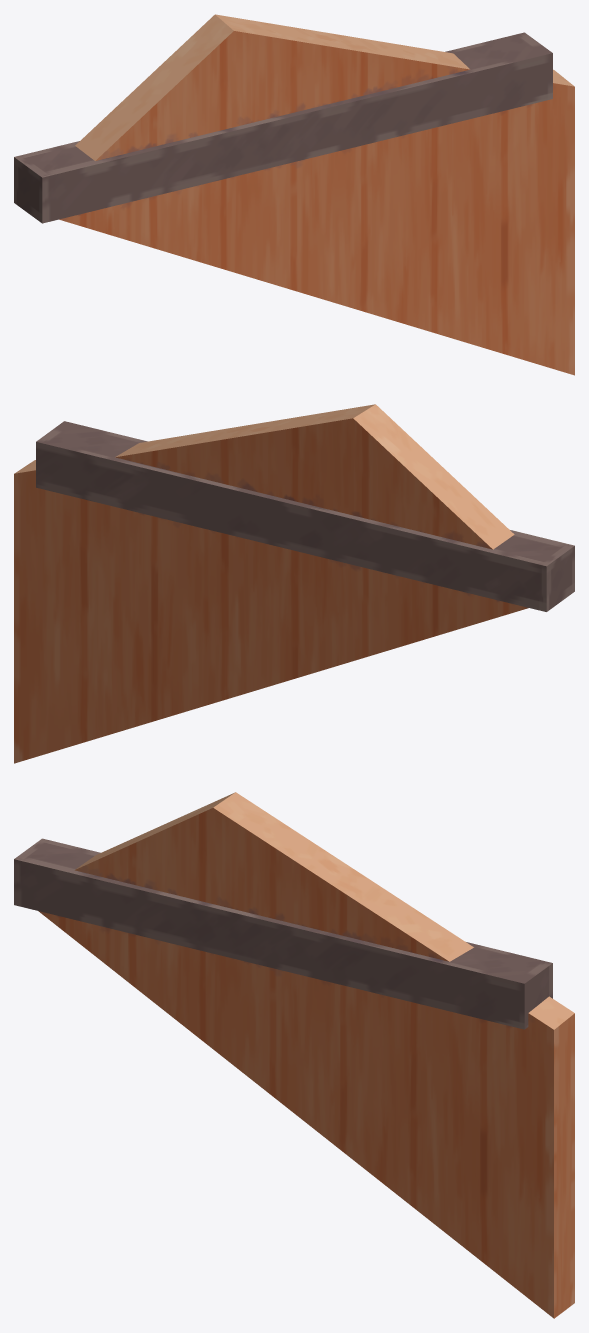
File: door2_wood_s04.fbx
The picture shows the model from 3 angles, top to bottom: view 1: azimuth 30°, elevation 25°; view 2: azimuth 150°, elevation 25°; view 3: azimuth 330°, elevation 25°; orthographic projection.
Parts seen in each view (by area): view 1: door2_wood_s04; view 2: door2_wood_s04; view 3: door2_wood_s04.
Part boxes in pixels (x1,y1,x2,y2): door2_wood_s04: [14, 14, 574, 375]; door2_wood_s04: [14, 404, 574, 763]; door2_wood_s04: [14, 792, 574, 1318].
Size of the model in its own units: 4.16 by 3.18 by 0.38.
